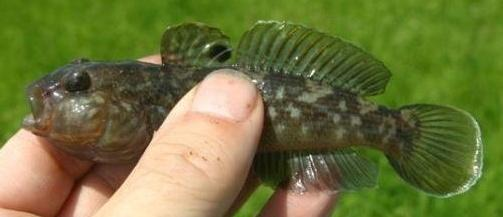Goby: (24, 19, 483, 199)
